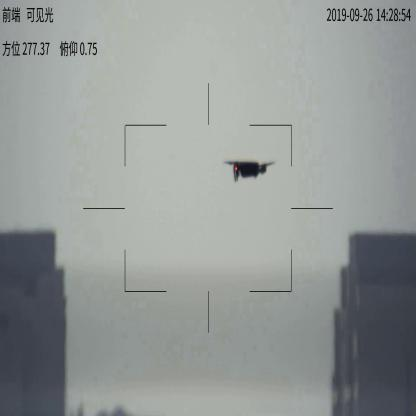uav: (222, 159, 278, 182)
